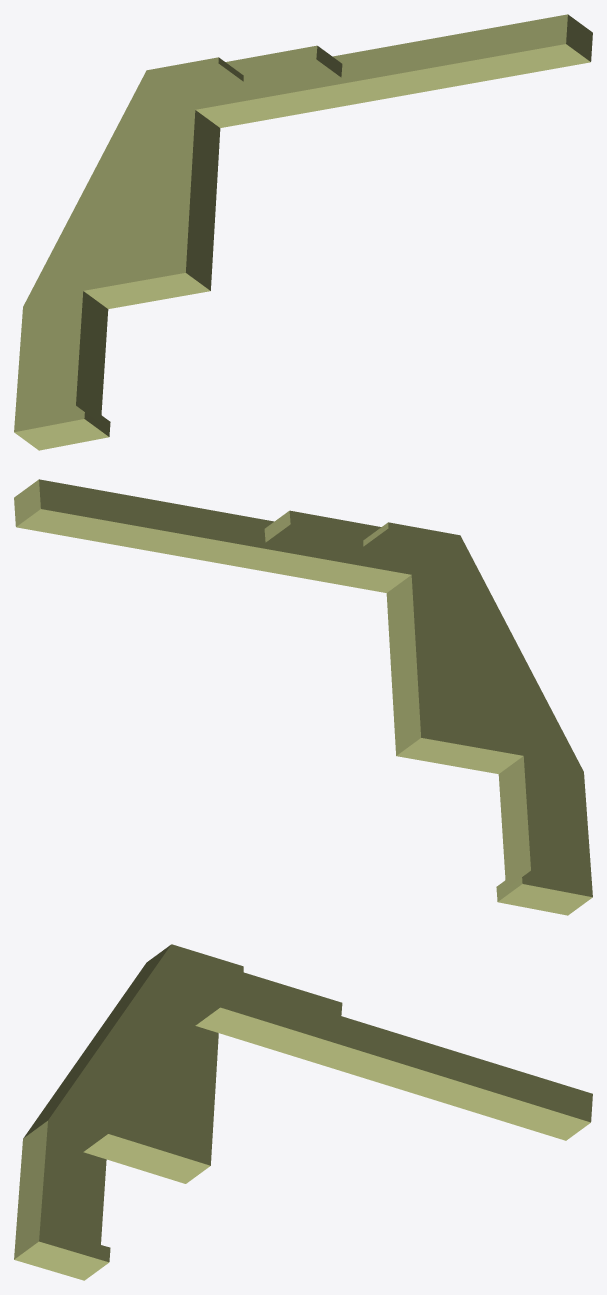
3 views of the same model, one above another, from view 1: azimuth 30°, elevation 25°; view 2: azimuth 150°, elevation 25°; view 3: azimuth 330°, elevation 25° (orthographic).
Visible parts, largest first — view 1: 0_0_2_0_1_1; view 2: 0_0_2_0_1_1; view 3: 0_0_2_0_1_1.
Part boxes in pixels (x1,y1,x2,y2): 0_0_2_0_1_1: (14,14,592,450); 0_0_2_0_1_1: (14,479,592,915); 0_0_2_0_1_1: (14,944,592,1280).
Bounding box in the file's own units: 76.67 × 44.1 × 6.
